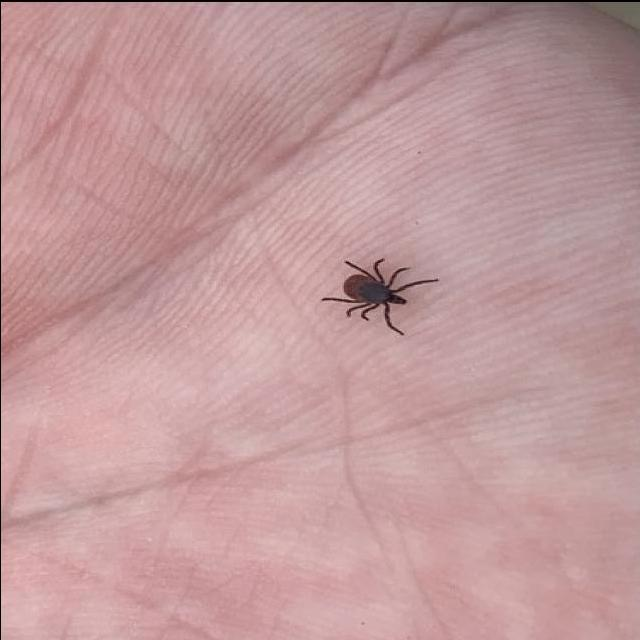Ixodes Ricinus-F: (321, 256, 439, 334)
